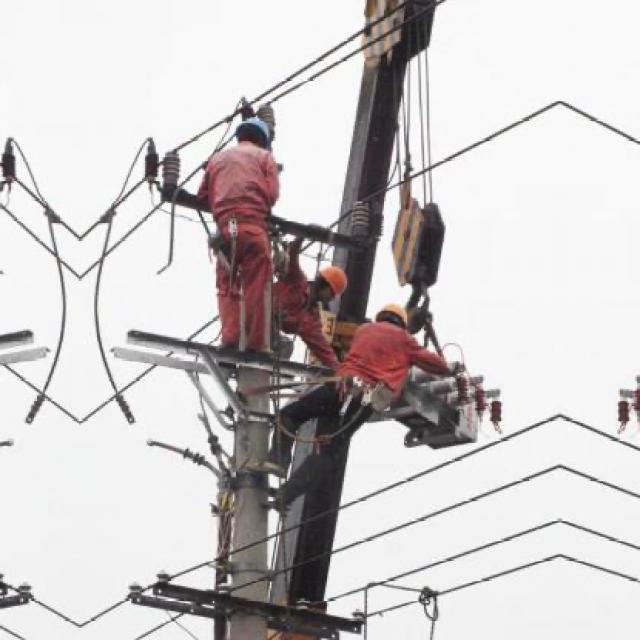helmet: (230, 111, 273, 155), (306, 265, 348, 303), (373, 301, 409, 337)
